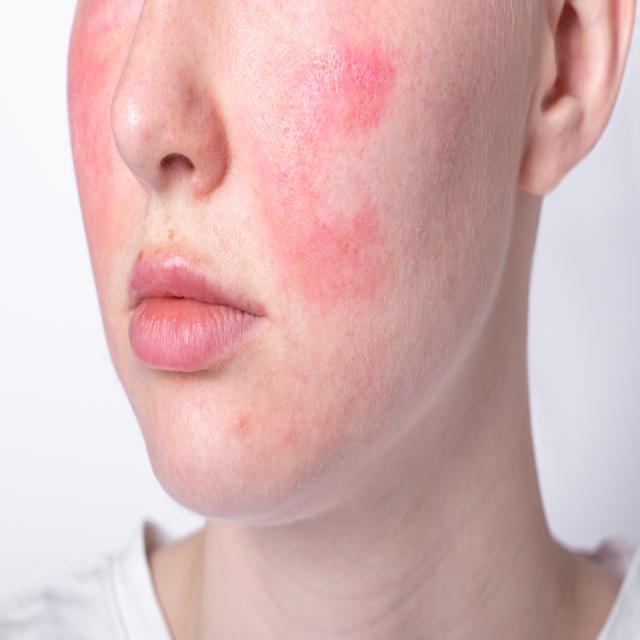Skin-Redness: (272, 183, 405, 310), (278, 29, 405, 157)
